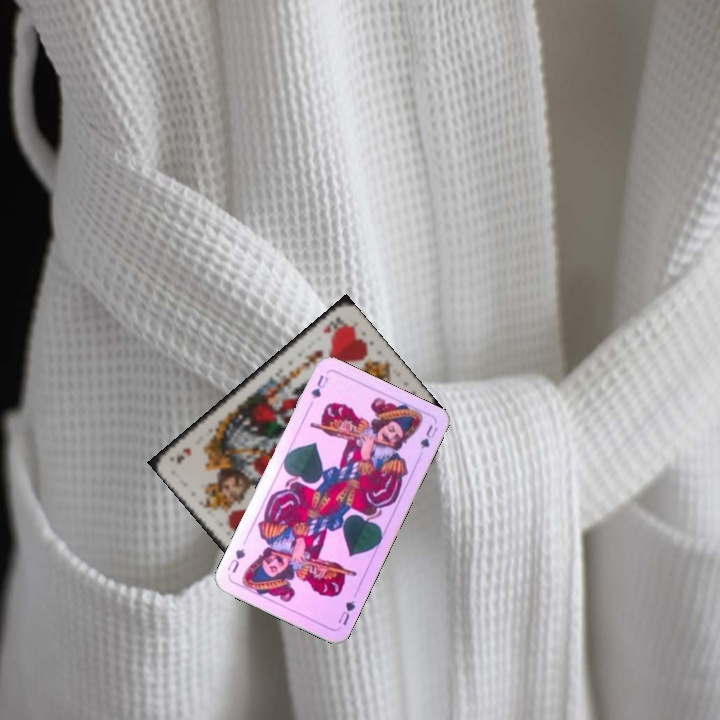GU: (334, 596, 358, 628), (307, 371, 331, 401)
HK: (320, 312, 346, 336)
